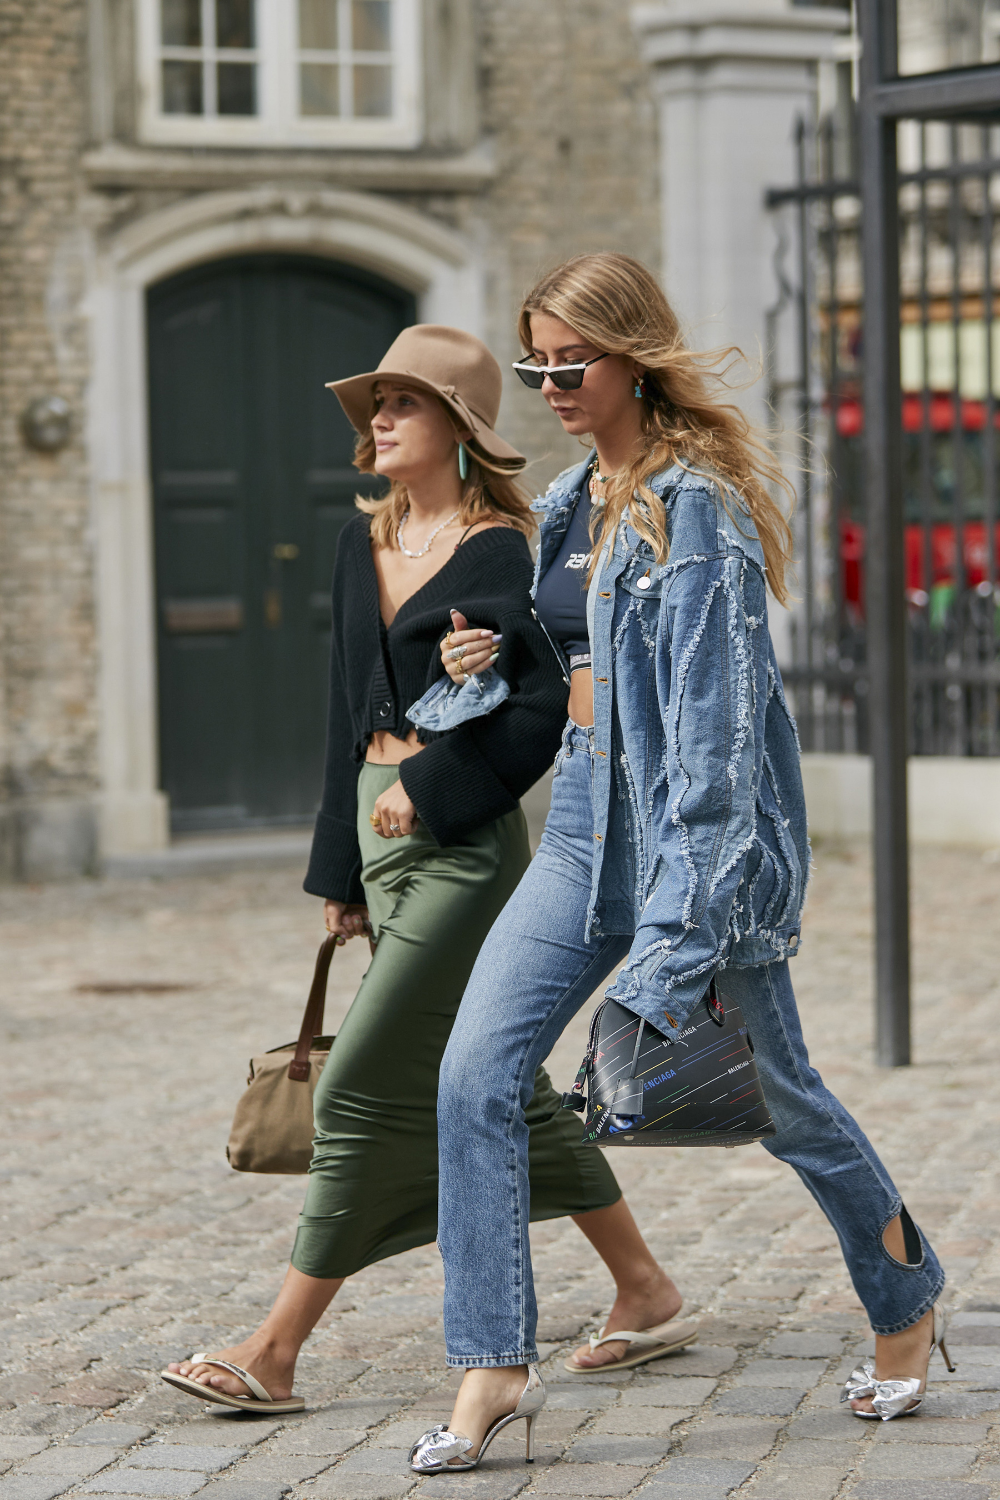Person: (438, 260, 972, 1500), (155, 306, 711, 1409)
